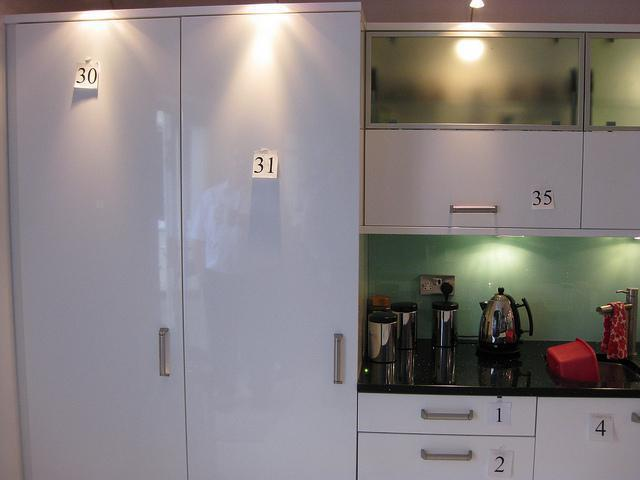Lavaplatos: (550, 276, 639, 397)
